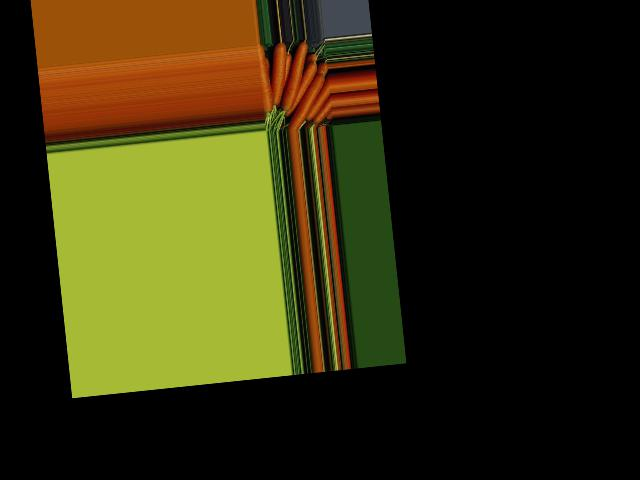carrot: (282, 72, 331, 129)
